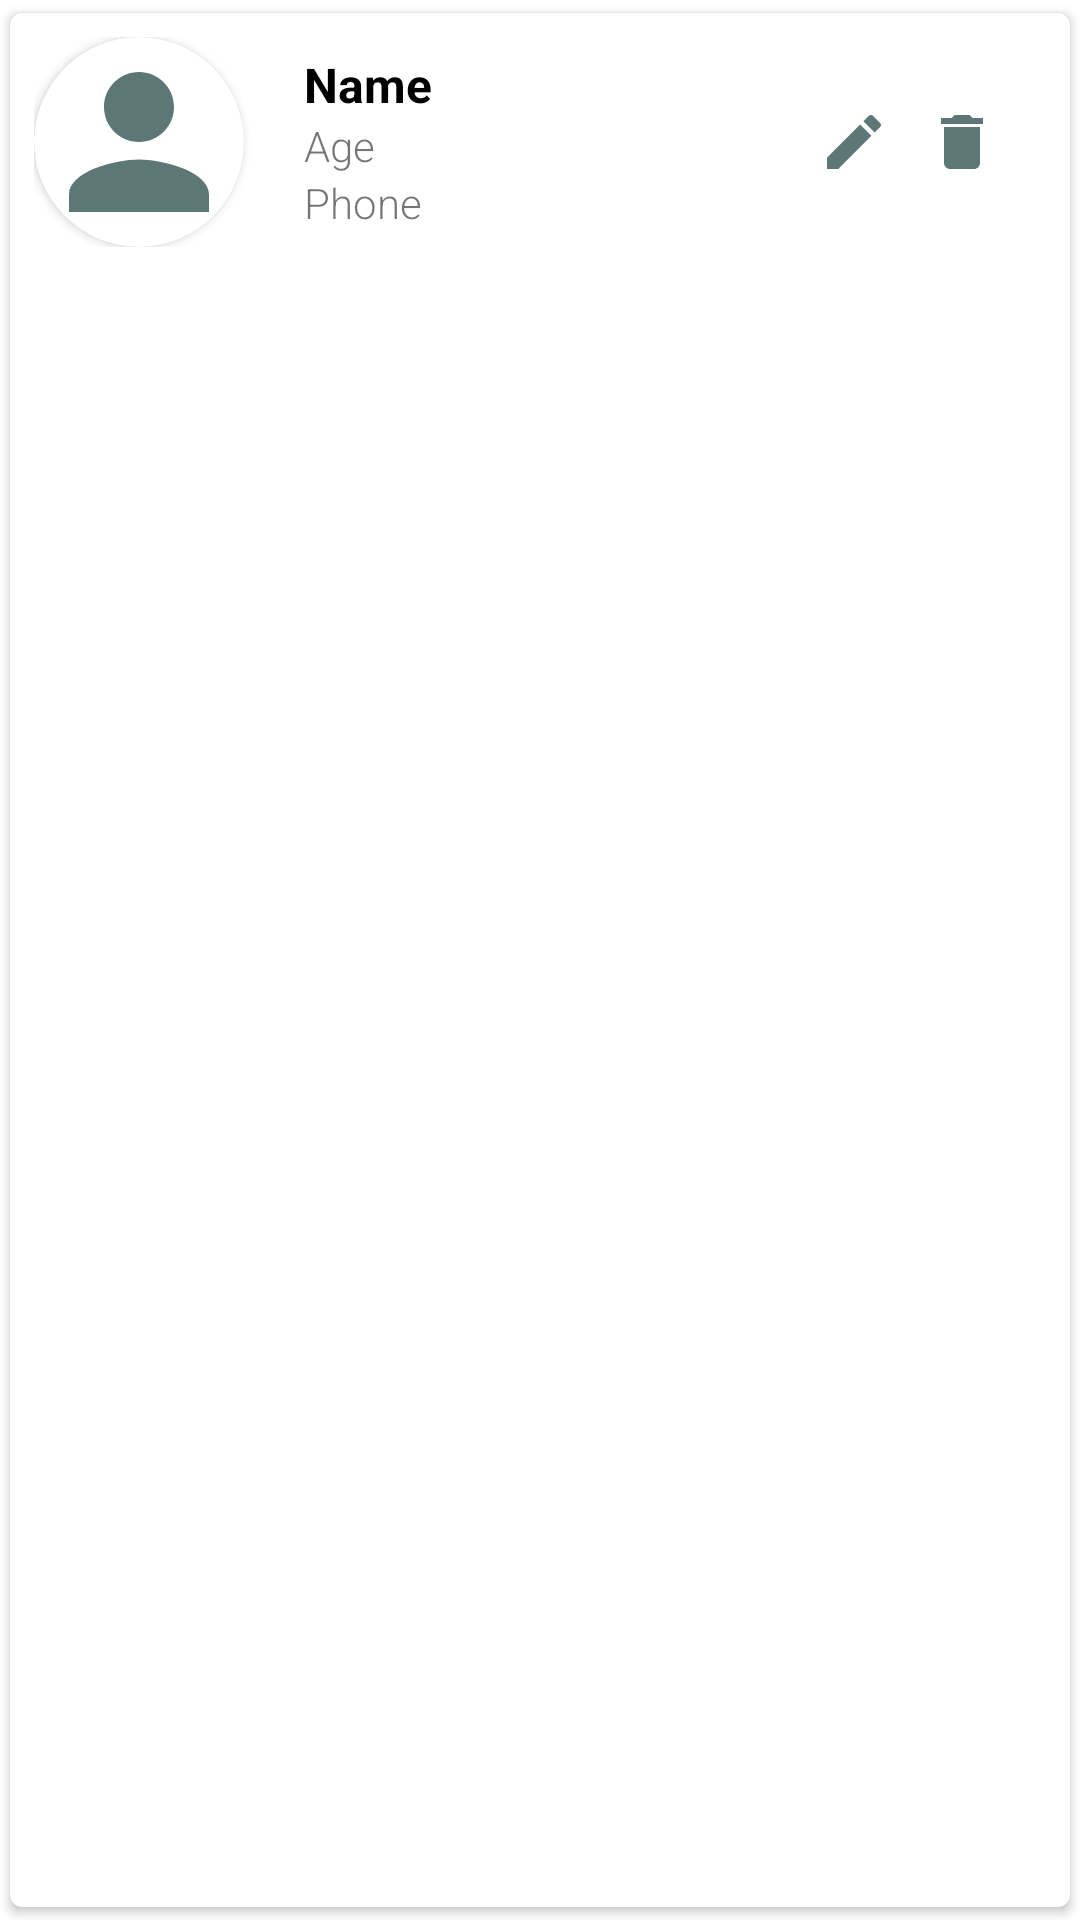

Locate icon controls on the screen. Image size 1080x1920, boxes as [left=x1, top=y1, right=x2, bottom=y2].
delete: [left=941, top=115, right=983, bottom=169]
edit: [left=827, top=115, right=881, bottom=169]
